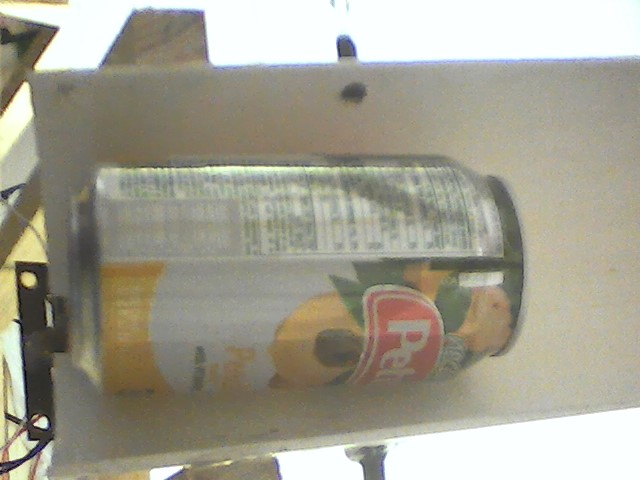lata: (62, 145, 539, 405)
